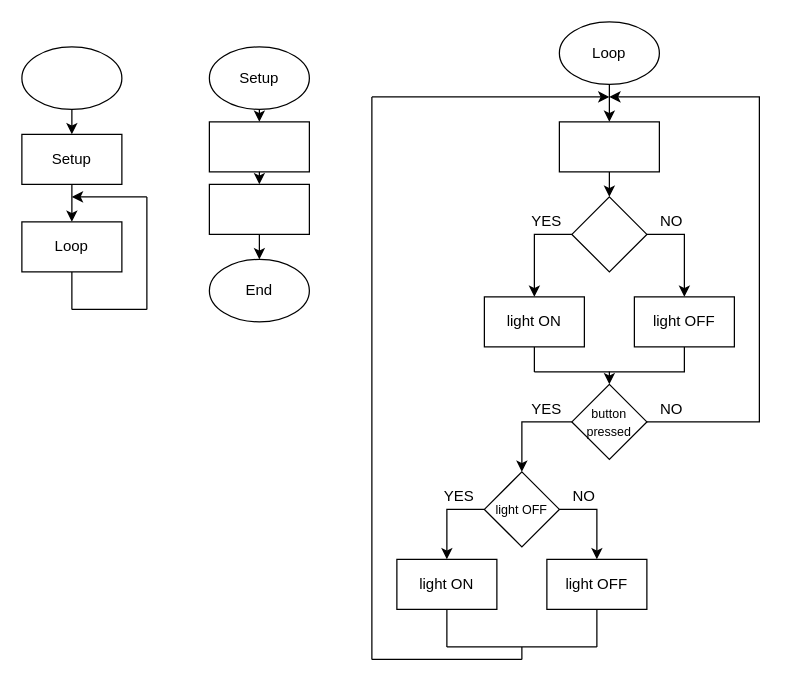
Some shapes in this 791 by 683 pixel diagram are drawn without their labels. The box of each missing label's shape, as (x1, y1, x2, y2) in pixels:
button init: (208, 183, 309, 234)
led init: (208, 121, 309, 172)
Main: (21, 46, 122, 109)
read buttonValue: (558, 121, 659, 172)
turned =1: (571, 196, 647, 272)
